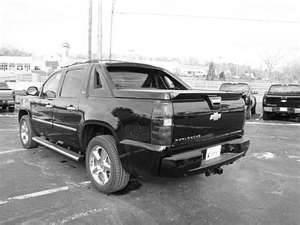car: (15, 58, 254, 195)
